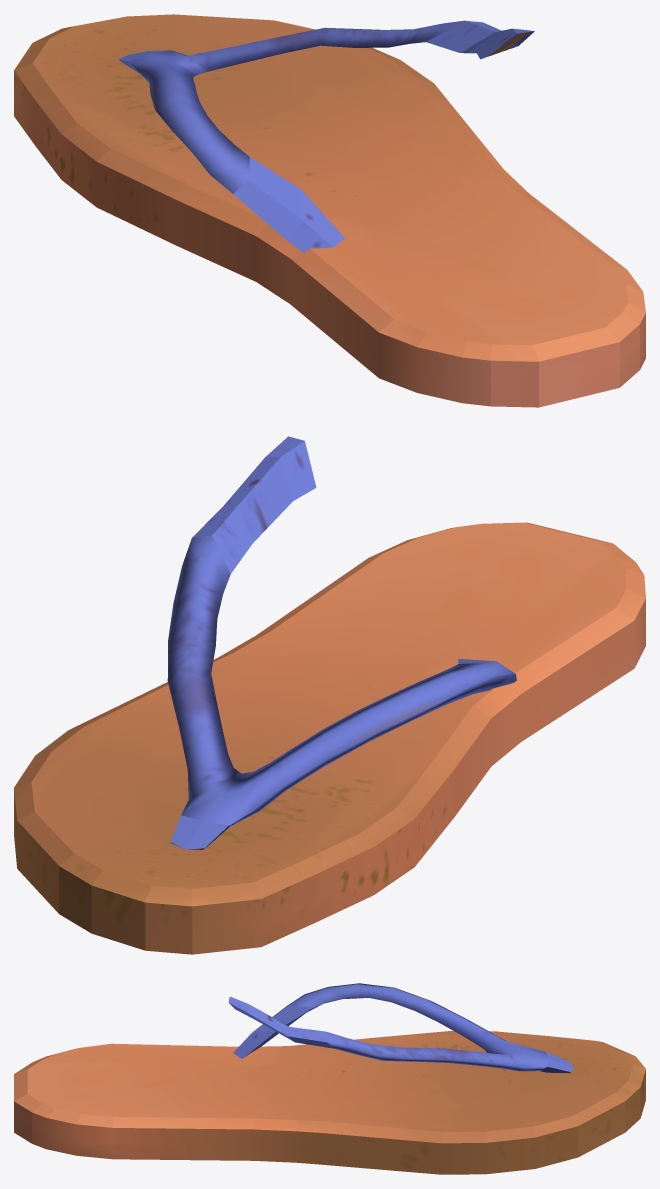
File: orangeFlipFlop_Right.FBX
3 views of the same model, one above another, from view 1: azimuth 30°, elevation 25°; view 2: azimuth 150°, elevation 25°; view 3: azimuth 270°, elevation 25° (orthographic). The views are drawn at different scales.
Parts seen in each view (by area): view 1: orangeFlipFlop_Right; view 2: orangeFlipFlop_Right; view 3: orangeFlipFlop_Right.
Part boxes in pixels (x1,y1,x2,y2): orangeFlipFlop_Right: (14,14,645,407); orangeFlipFlop_Right: (14,436,645,954); orangeFlipFlop_Right: (14,983,645,1174).
Bounding box in the file's own units: 12.33 × 7.97 × 29.53.
1 material, 1 textured.
